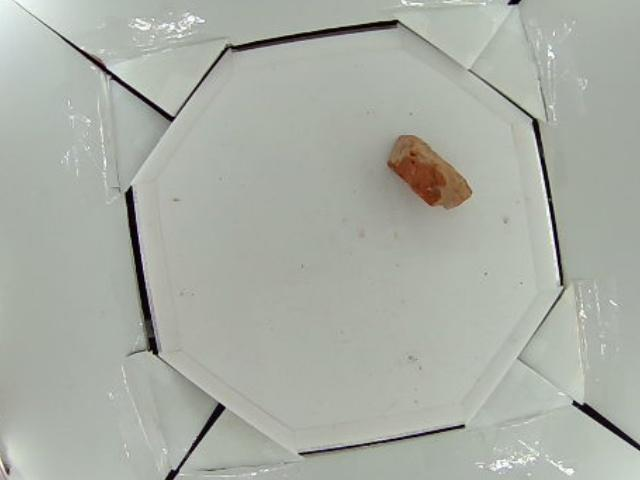Brisk: (387, 134, 474, 209)
